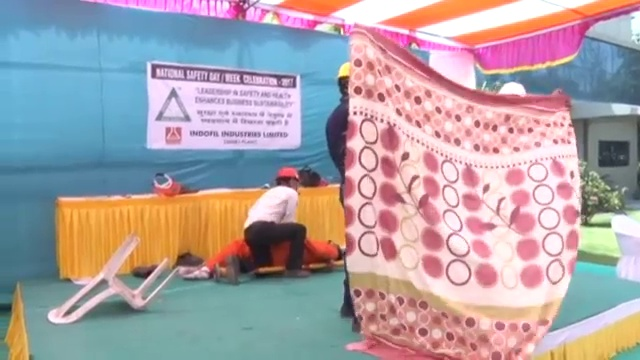helmet: (336, 59, 356, 80), (276, 165, 300, 182)
helmet_on: (274, 164, 300, 194), (334, 57, 352, 100)
person: (323, 59, 364, 331), (223, 165, 311, 289), (183, 236, 345, 285)
